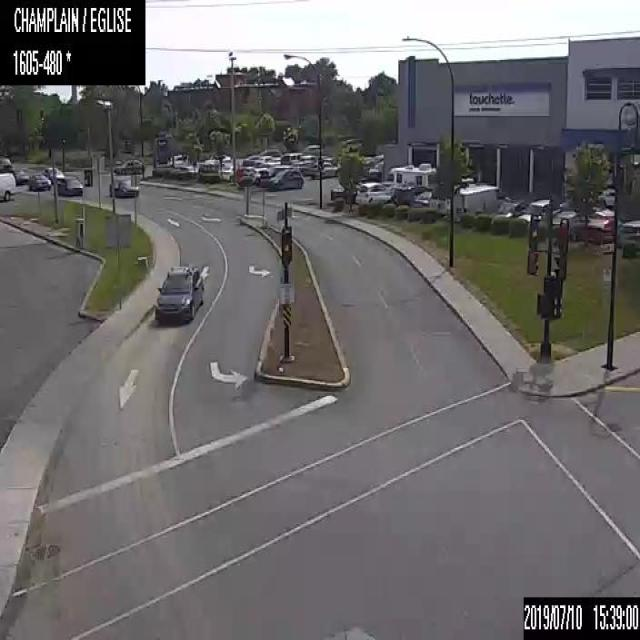vehicle: (154, 264, 203, 324), (445, 183, 498, 218), (388, 162, 437, 188), (575, 208, 613, 241), (552, 208, 585, 241), (518, 198, 559, 220), (355, 180, 391, 203), (391, 182, 425, 206), (268, 167, 304, 189), (413, 188, 445, 212), (494, 197, 526, 218), (329, 179, 359, 201), (108, 174, 138, 196), (260, 163, 290, 184), (618, 219, 639, 249), (57, 175, 82, 196), (114, 158, 145, 174), (0, 171, 15, 200), (28, 172, 50, 190), (167, 152, 194, 166), (313, 161, 337, 176), (597, 187, 614, 207), (218, 164, 238, 180), (236, 166, 254, 182), (248, 167, 266, 183), (281, 151, 303, 164), (46, 169, 64, 184), (204, 152, 231, 162), (253, 154, 273, 167), (14, 168, 30, 183), (198, 162, 218, 174), (261, 155, 280, 167), (242, 154, 260, 166), (0, 157, 15, 171), (301, 158, 314, 174), (381, 179, 395, 192), (298, 153, 315, 161), (42, 166, 58, 174), (321, 156, 335, 164)
